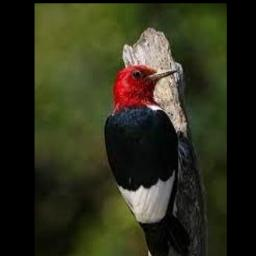Woodpecker: (101, 65, 190, 256)
